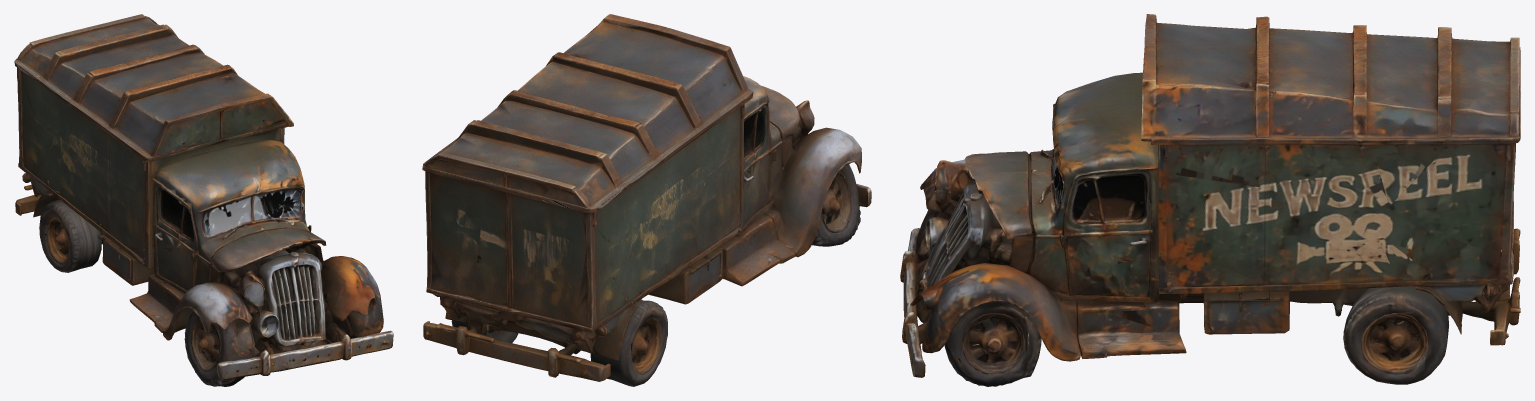
Rendered from newsreel-truck-wrecked.glb.
3 views of the same model, side by side, from view 1: azimuth 30°, elevation 25°; view 2: azimuth 150°, elevation 25°; view 3: azimuth 270°, elevation 25° (orthographic). The views are drawn at different scales.
Visible parts, largest first — view 1: SM_NewsreelTruckWrecked; view 2: SM_NewsreelTruckWrecked; view 3: SM_NewsreelTruckWrecked.
Part boxes in pixels (x1,y1,x2,y2): SM_NewsreelTruckWrecked: [14, 14, 393, 386]; SM_NewsreelTruckWrecked: [422, 14, 871, 386]; SM_NewsreelTruckWrecked: [900, 14, 1520, 386].
Bounding box in the file's own units: 2.37 × 2.7 × 5.2.
Materials: 1 (1 with a texture image).
